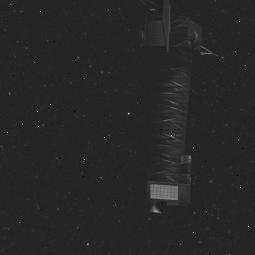xmm_newton: (121, 0, 201, 217)
